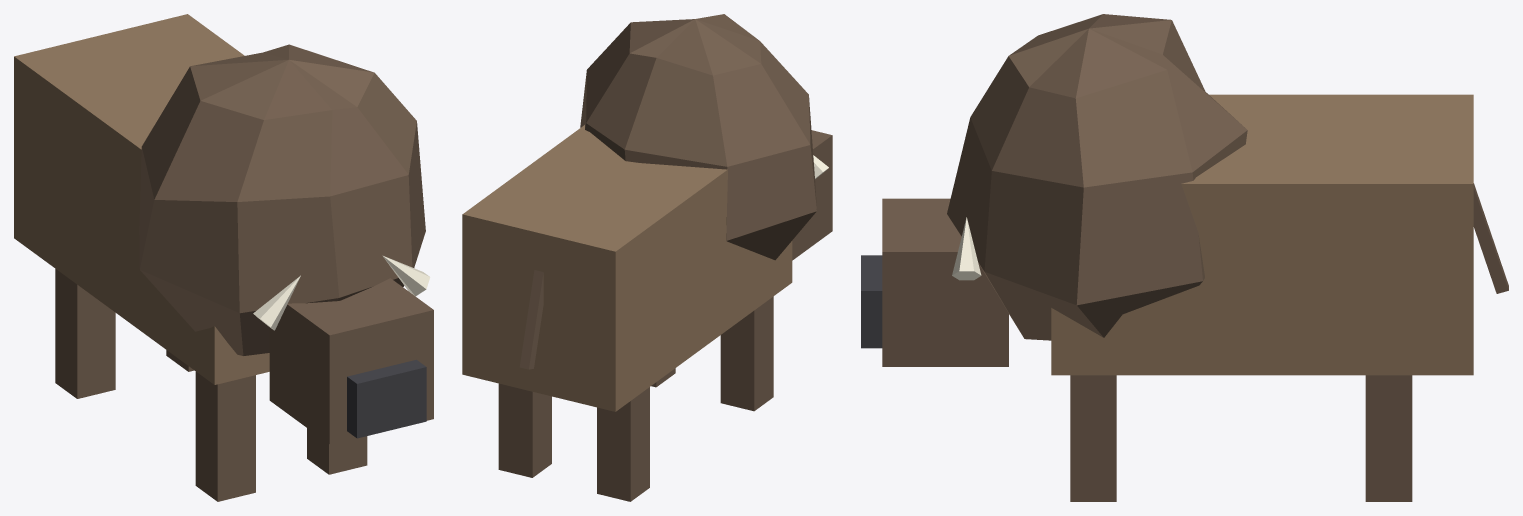
The model's file is bison.glb.
The picture shows the model from 3 angles, left to right: view 1: azimuth 30°, elevation 25°; view 2: azimuth 150°, elevation 25°; view 3: azimuth 270°, elevation 25°; orthographic projection. The views are drawn at different scales.
Parts seen in each view (by area): view 1: bison; view 2: bison; view 3: bison.
Boxes of the visible parts, left/top/right/bottom form: bison: left=14, top=14, right=433, bottom=501; bison: left=462, top=14, right=832, bottom=501; bison: left=861, top=14, right=1508, bottom=501.
Bounding box in the file's own units: 1.58 × 2.29 × 3.07.
